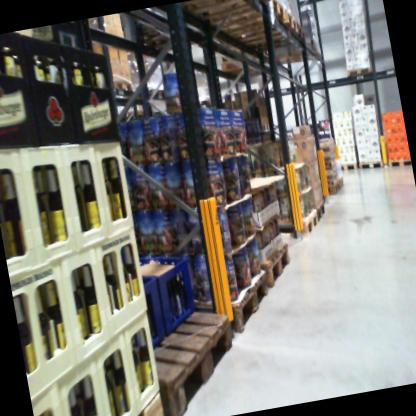pallet: (141, 283, 248, 416), (177, 258, 285, 366), (204, 0, 292, 52), (130, 6, 203, 63), (252, 224, 302, 299), (168, 0, 274, 28), (235, 19, 311, 58), (227, 9, 298, 50), (266, 204, 321, 245), (110, 380, 168, 416), (219, 50, 275, 83), (342, 62, 374, 82), (356, 150, 385, 171), (386, 151, 412, 174), (335, 157, 359, 180), (109, 80, 135, 101), (324, 177, 343, 199), (313, 196, 329, 222)
